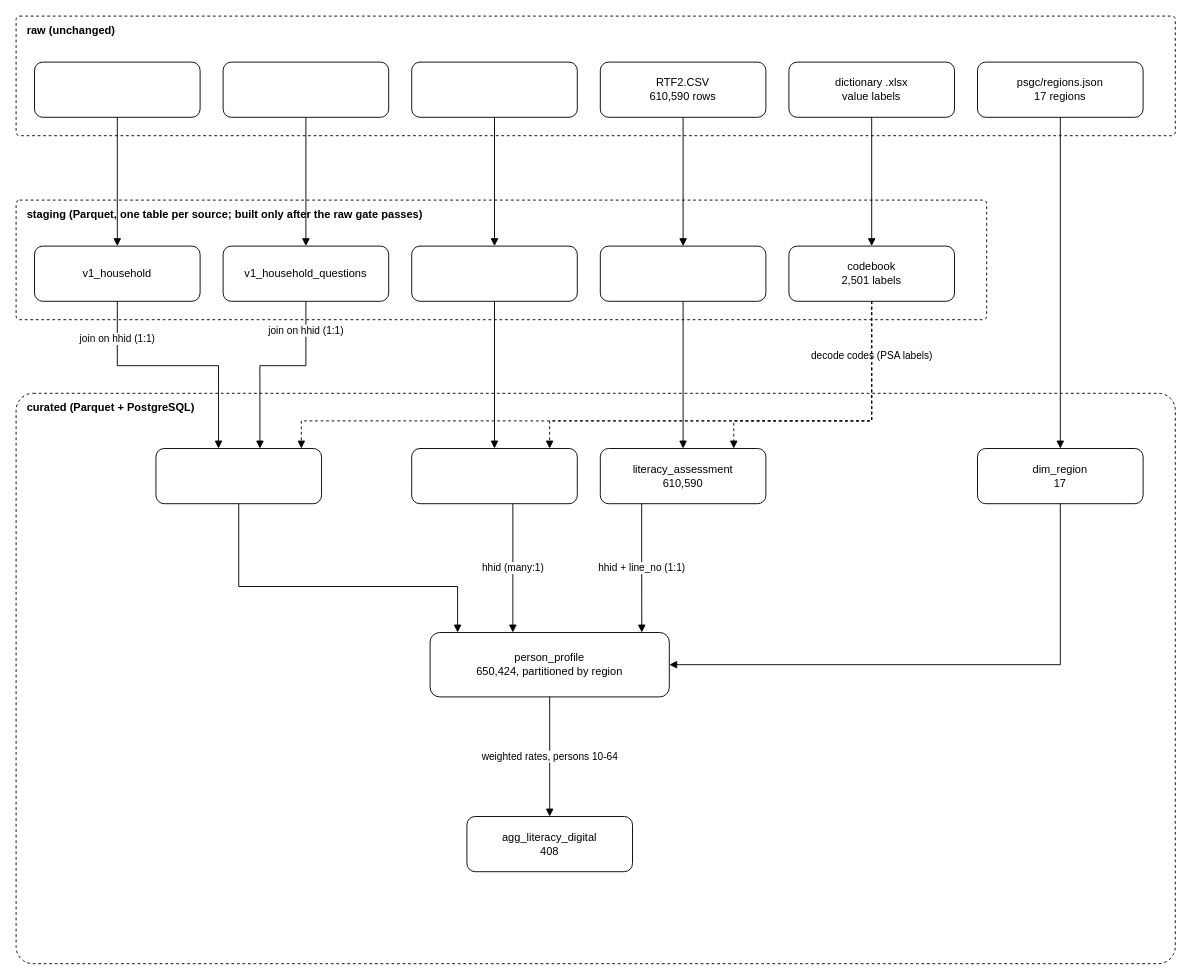
This 1191x980 diagram has some shape labels left out. The shapes that lost their labels are listed below. From the top down, each one's centre as x and y in pixels, then its label:
At point 117,89: "HOUSEHOLD.CSV 177,656 rows".
At point 305,89: "RTF1.CSV 177,656 rows".
At point 494,89: "MEMBER.CSV 650,424 rows".
At point 494,273: "v1_member".
At point 682,273: "v1_literacy".
At point 238,476: "household 177,656".
At point 494,476: "member 650,424".
